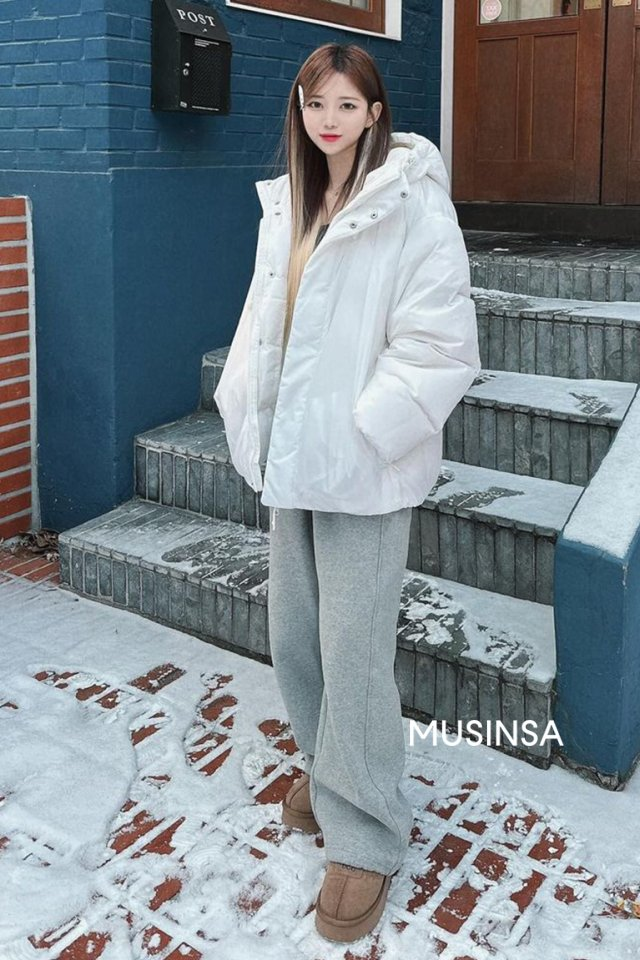Boots: (276, 765, 406, 948)
Bubble jacket: (207, 130, 495, 508)
Pants: (261, 500, 418, 877)
